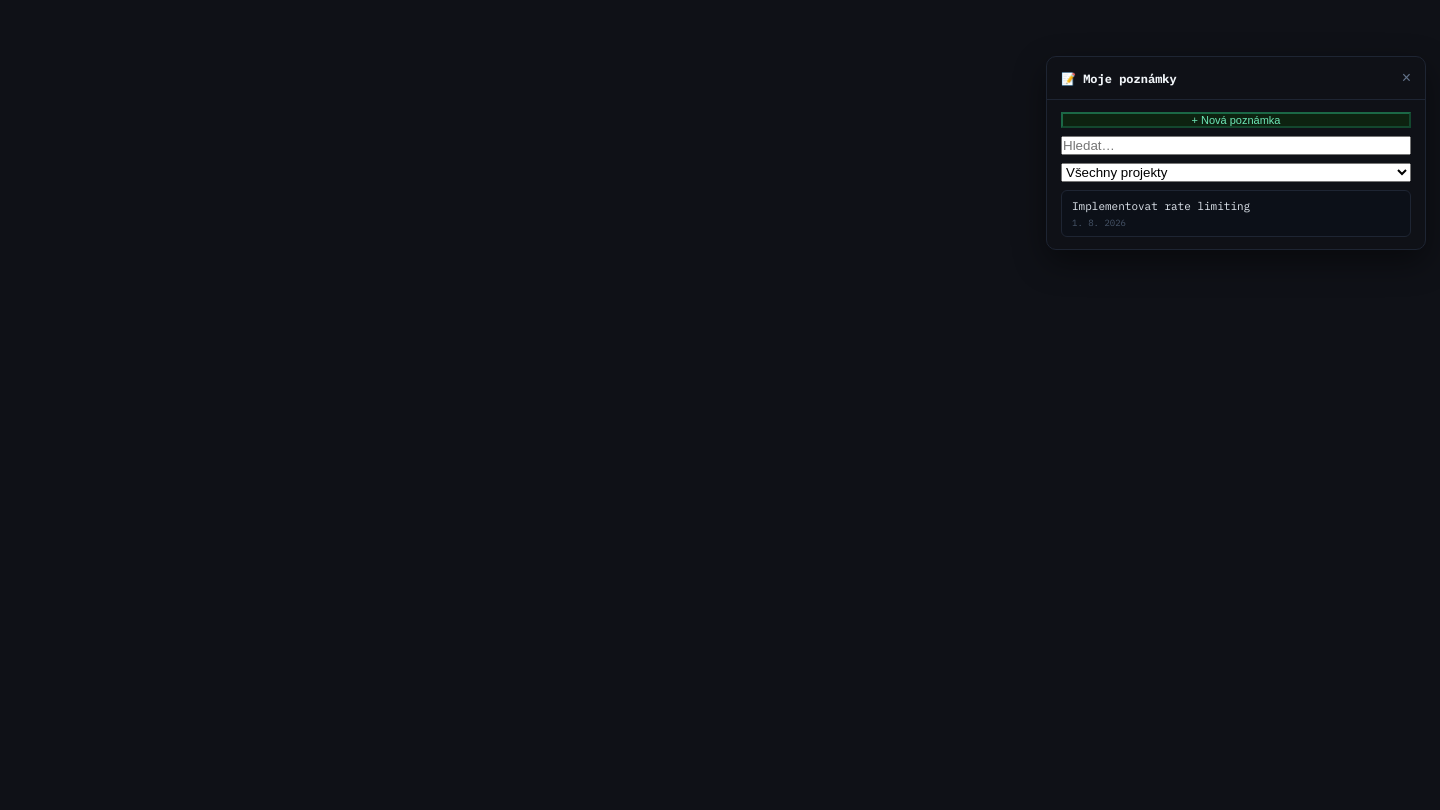
it: QuickNotesPanel — editace, smazání, link na projekt › přiřazení k projektu se uloží a zobrazí jako tag u poznámky v seznamu
Click the text "Implementovat rate limiting" at (1161, 206), box [1072, 199, 1250, 213]
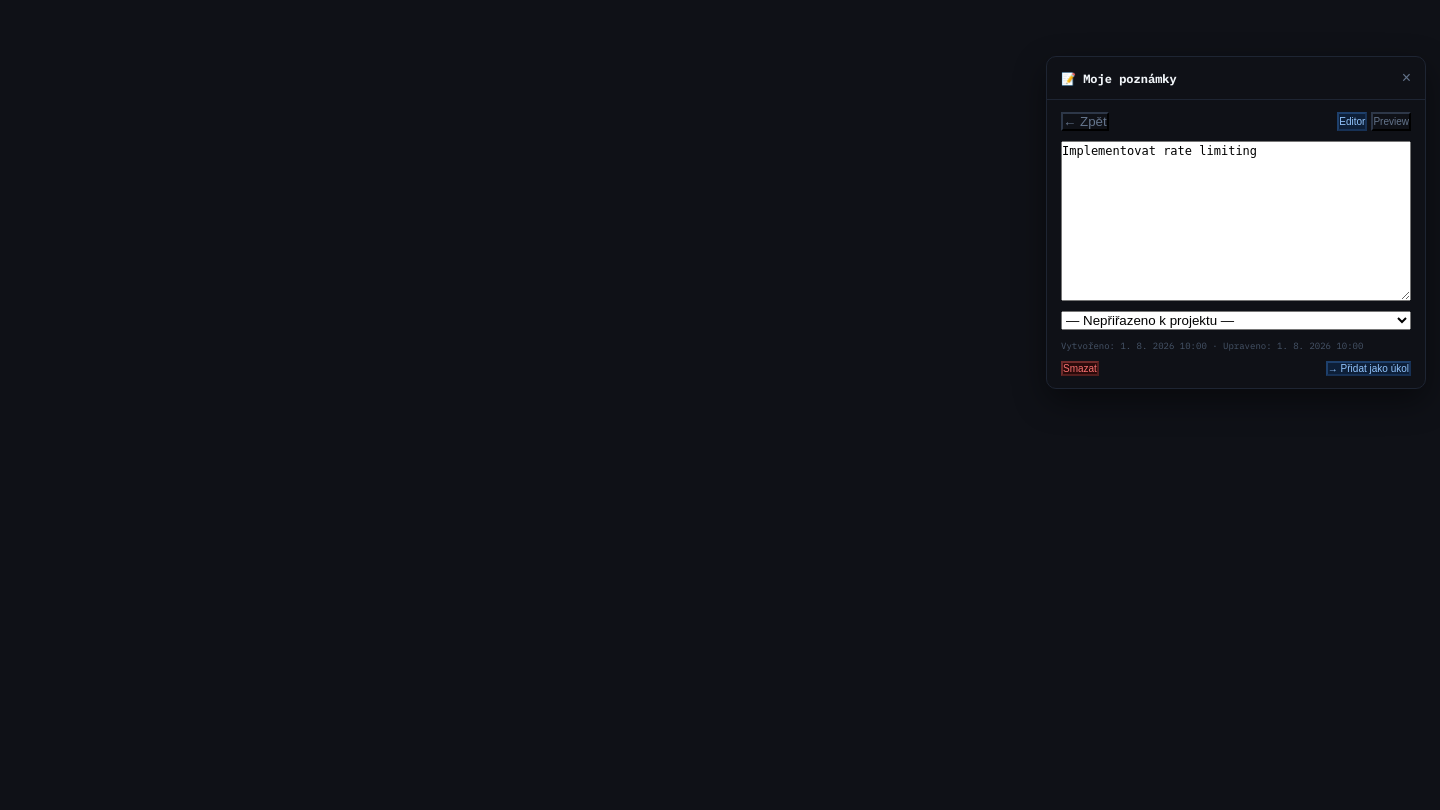
Select "Backend refaktoring" in the dropdown named "Přiřadit k projektu" at (1236, 320), box [1061, 311, 1411, 330]
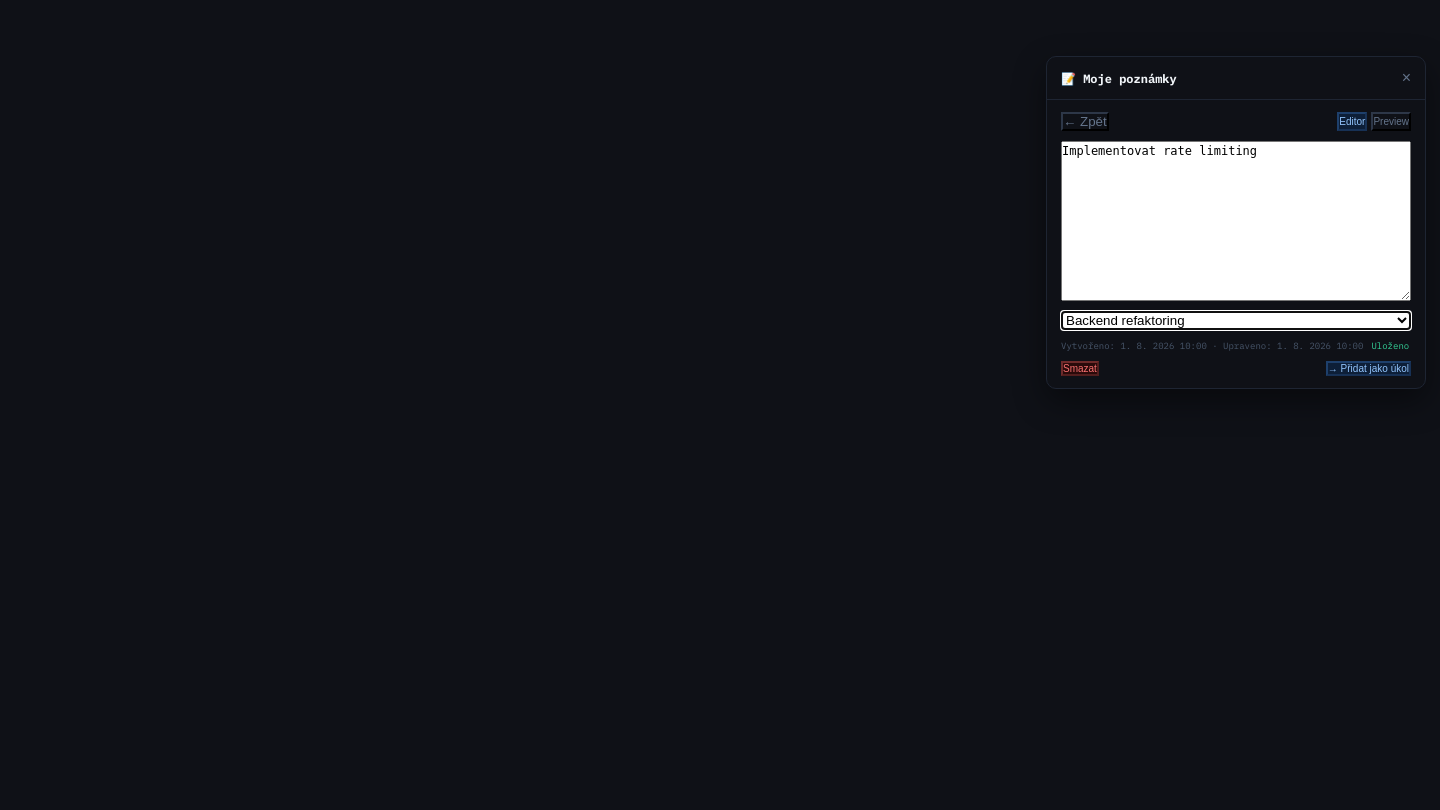
Click the button "← Zpět" at (1085, 122), box [1061, 112, 1109, 131]
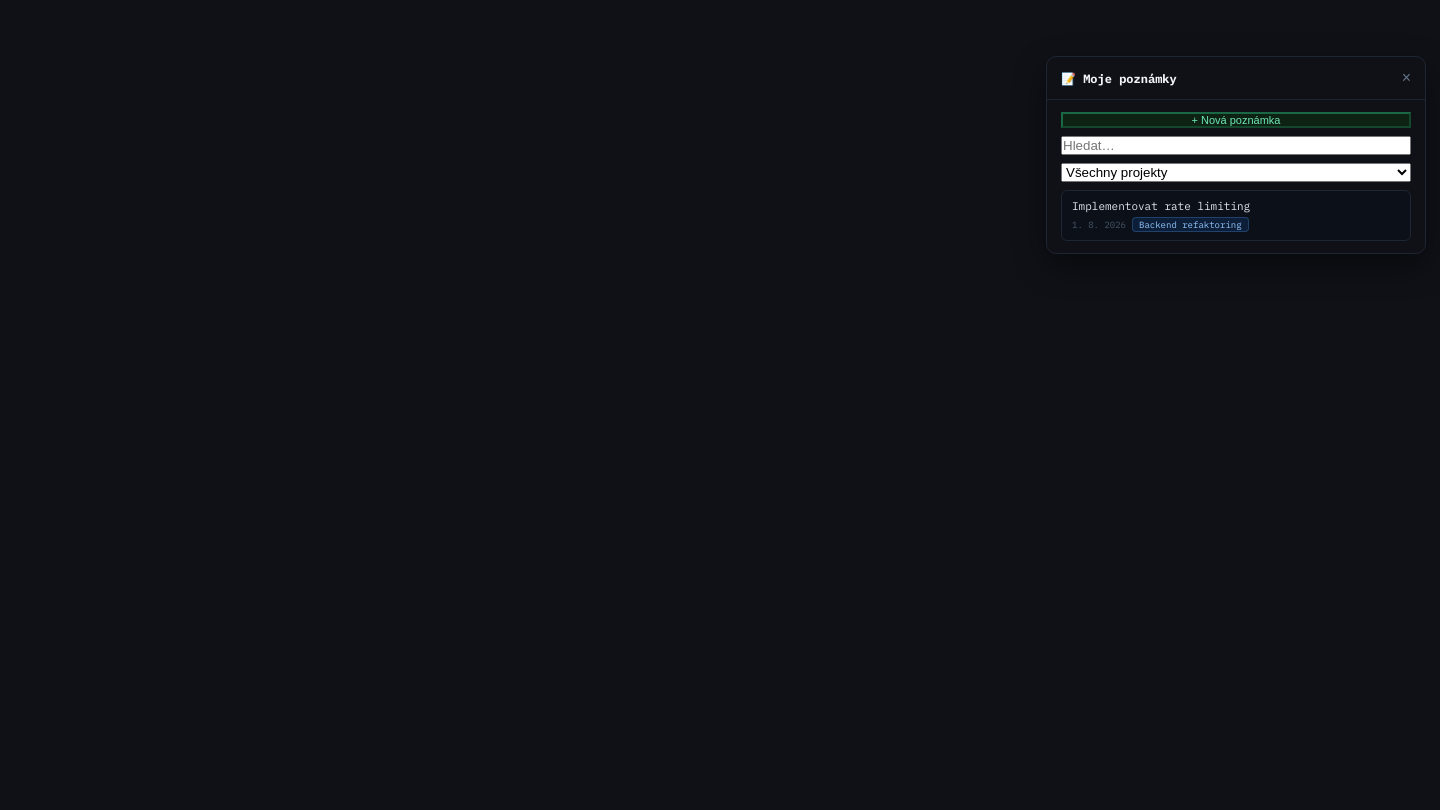
Result: the text "Backend refaktoring" is shown 2 times
